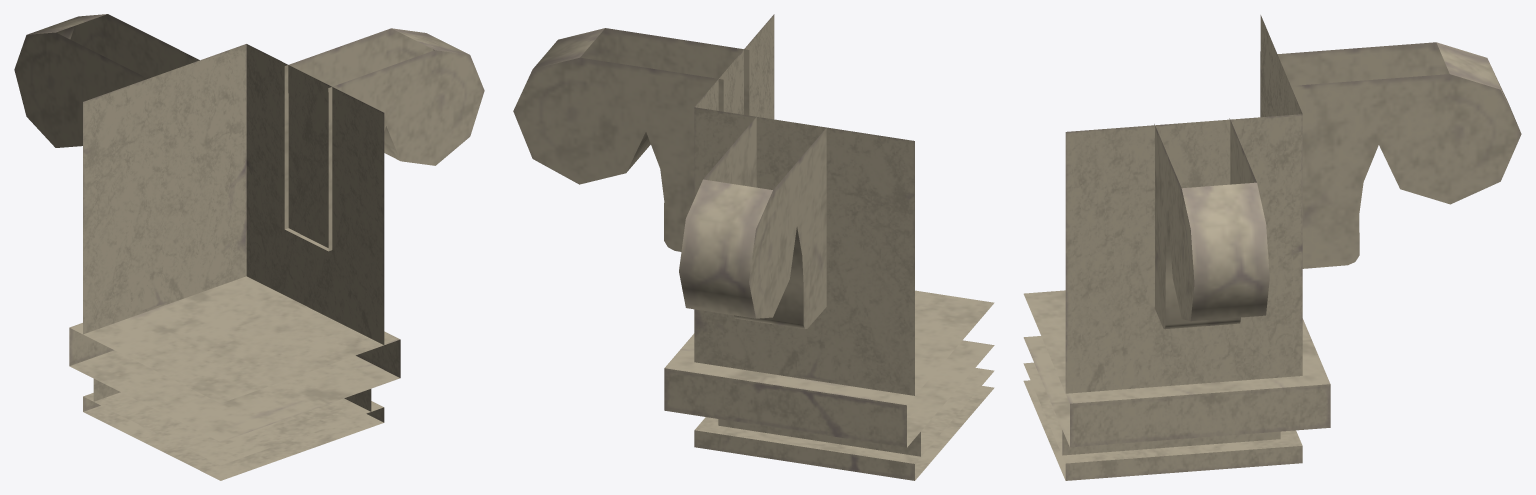
The picture shows the model from 3 angles, left to right: view 1: azimuth 30°, elevation 25°; view 2: azimuth 150°, elevation 25°; view 3: azimuth 270°, elevation 25°; orthographic projection. The views are drawn at different scales.
Parts seen in each view (by area): view 1: SM_town_BD_3Fside__1_; view 2: SM_town_BD_3Fside__1_; view 3: SM_town_BD_3Fside__1_.
Part boxes in pixels (<box>): SM_town_BD_3Fside__1_: <box>14,14,484,480</box>; SM_town_BD_3Fside__1_: <box>513,14,994,480</box>; SM_town_BD_3Fside__1_: <box>1023,15,1521,480</box>.
Bounding box in the file's own units: 87.76 × 69.23 × 89.53.
